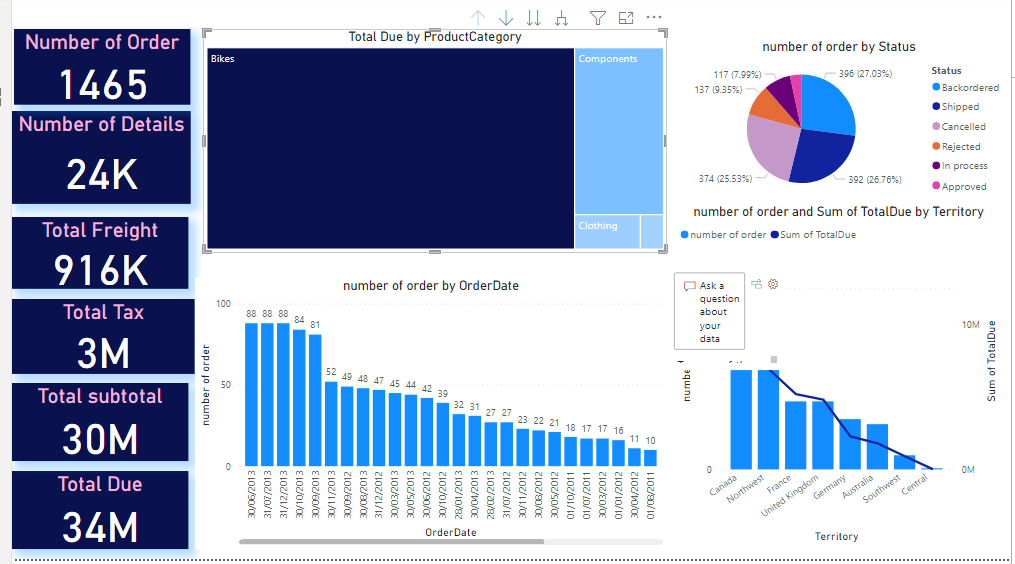

The dashboard page shown, as its layout file describes it:
{"tool":"powerbi","page":{"name":"Page 1","canvas":[1280,720],"ordinal":0},"visuals":[{"type":"card","title":"Number of Details","fields":{"Values":["measure Table.number of order Details"]},"box":[0,146.1,229.3,119.2],"z":0},{"type":"card","title":"Total  Due","fields":{"Values":["measure Table.Total Due"]},"box":[0,607.3,225.5,99.9],"z":1000},{"type":"card","title":"Total Freight","fields":{"Values":["measure Table.total Freight"]},"box":[0,281.9,225.5,92.3],"z":2000},{"type":"card","title":"Total Tax","fields":{"Values":["measure Table.total Tax"]},"box":[0,386.9,234.5,96.1],"z":3000},{"type":"card","title":"Total subtotal","fields":{"Values":["measure Table.total subtotal"]},"box":[0,494.6,225.5,99.9],"z":4000},{"type":"treemap","fields":{"Group":["Dim_Product.ProductCategory Hierarchy.ProductCategory","Dim_Product.ProductCategory Hierarchy.ProductSubCategory","Dim_Product.ProductCategory Hierarchy.Product"],"Values":["measure Table.Total Due"]},"box":[222.9,25.6,616.3,302.4],"z":5000},{"type":"card","title":"Number of Order","fields":{"Values":["measure Table.number of order"]},"box":[2.6,41,225.5,97.4],"z":6000},{"type":"columnChart","fields":{"Y":["measure Table.number of order"],"Category":["Dim_date.OrderDate"]},"box":[234.5,360,604.8,347.2],"z":7000},{"type":"pieChart","fields":{"Category":["Dim_stauts.Status"],"Y":["measure Table.number of order"]},"box":[839.2,53.8,440.8,211.4],"z":8000},{"type":"lineStackedColumnComboChart","fields":{"Y":["measure Table.number of order"],"Category":["Dim_Territory.Territory"],"Y2":["Sum(Fact_sales.TotalDue)"]},"box":[850.8,265.2,416.4,439.5],"z":9000},{"type":"qnaVisual","box":[839.2,328,150,150],"z":9001}]}

Visuals, with their boxes in screenshot pixels (x1, y1, x2, y2), scaled from the page's 1280x720 canvas onto the 1015x564 screenshot:
"Number of Details" card: bbox(0, 114, 182, 208)
"Total  Due" card: bbox(0, 476, 179, 554)
"Total Freight" card: bbox(0, 221, 179, 293)
"Total Tax" card: bbox(0, 303, 186, 378)
"Total subtotal" card: bbox(0, 387, 179, 466)
treemap - Dim_Product.ProductCategory Hierarchy.ProductCategory x Dim_Product.ProductCategory Hierarchy.ProductSubCategory: bbox(177, 20, 665, 257)
"Number of Order" card: bbox(2, 32, 181, 108)
columnChart - measure Table.number of order x Dim_date.OrderDate: bbox(186, 282, 666, 554)
pieChart - Dim_stauts.Status x measure Table.number of order: bbox(665, 42, 1014, 208)
lineStackedColumnComboChart - measure Table.number of order x Dim_Territory.Territory: bbox(675, 208, 1005, 552)
qnaVisual: bbox(665, 257, 784, 374)
